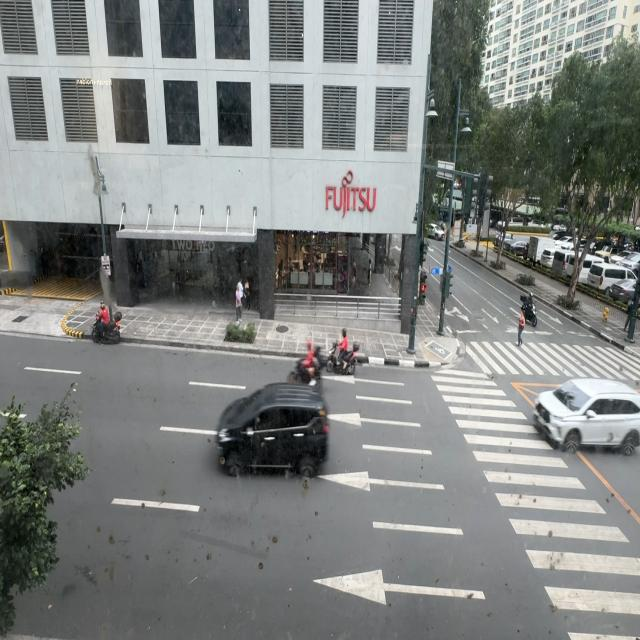crossing: (517, 306, 525, 344)
